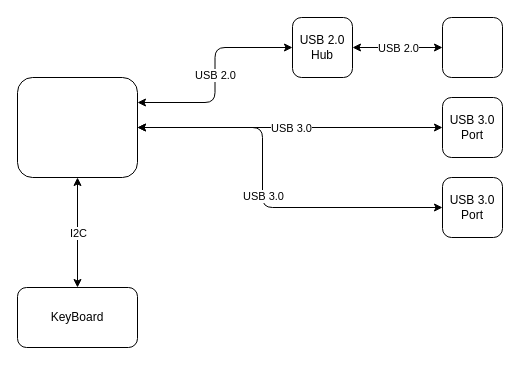
The diagram is 520 pixels wide and 365 high, and some of its shapes have lost their labels. The shapes that lost their labels are listed below. From the top down, each one's centre as x and y in pixels, then its label:
the point at 472,47: USB 2.0 Port
the point at 77,127: PI Module
